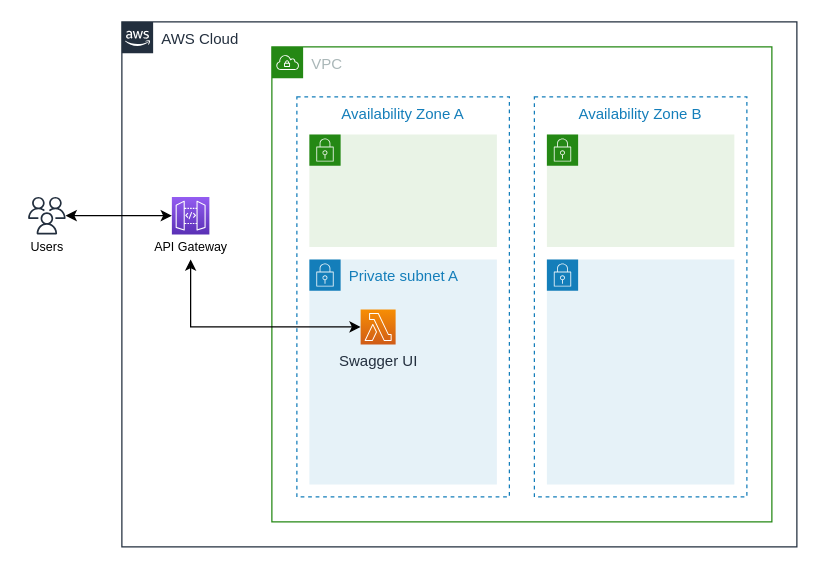
This 819x569 diagram has some shape labels left out. Here are the shapes that lost their labels. From the top down, the centre of each, then its label:
At (402,190): "Public subnet A".
At (640,190): "Public subnet B".
At (640,371): "Private subnet B".
